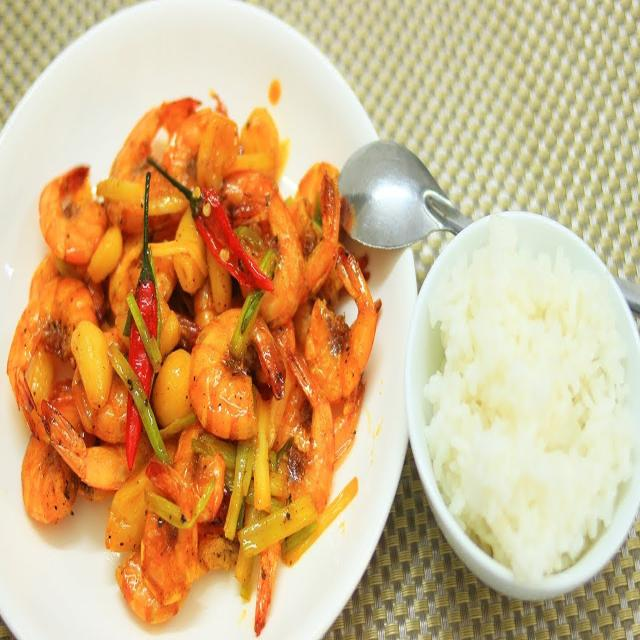com: (424, 231, 634, 579)
tom: (6, 96, 380, 635)
